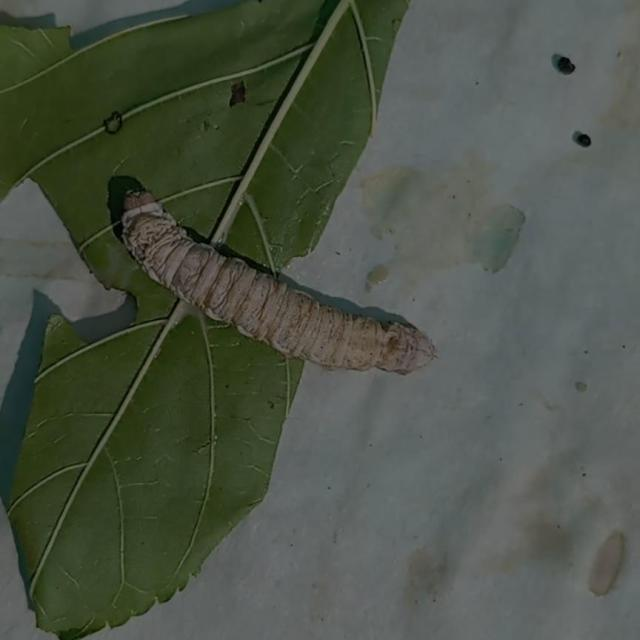Grasserie: (98, 153, 456, 413)
